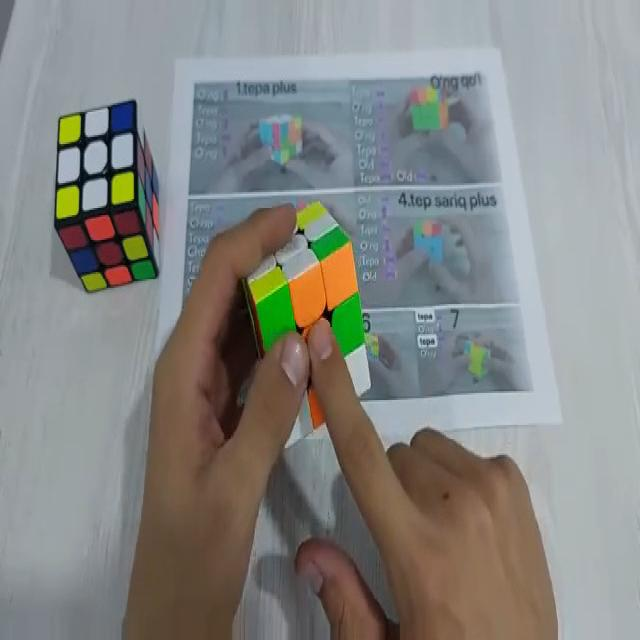Rub: (239, 203, 372, 448), (54, 97, 161, 294)
